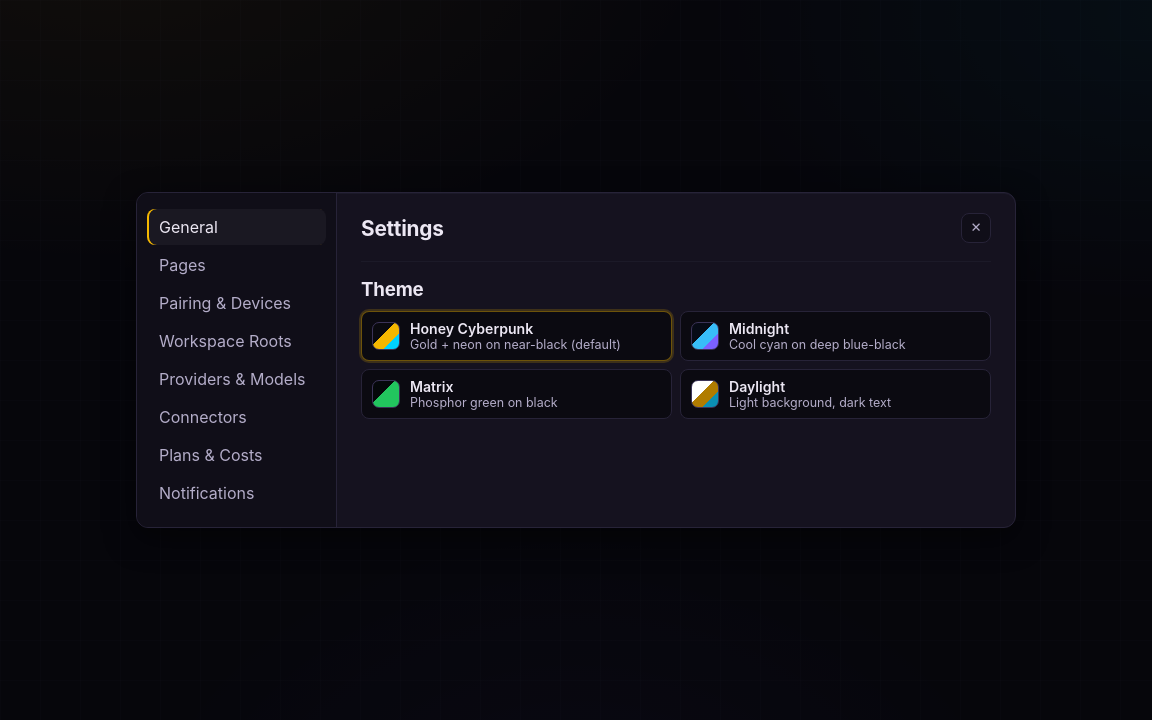
Scenario: SettingsModal › switches to the Pages section and lists page toggles
The image size is (1152, 720).
Step 1. Click the button "Pages" → (236, 265), box left=147, top=247, right=326, bottom=283
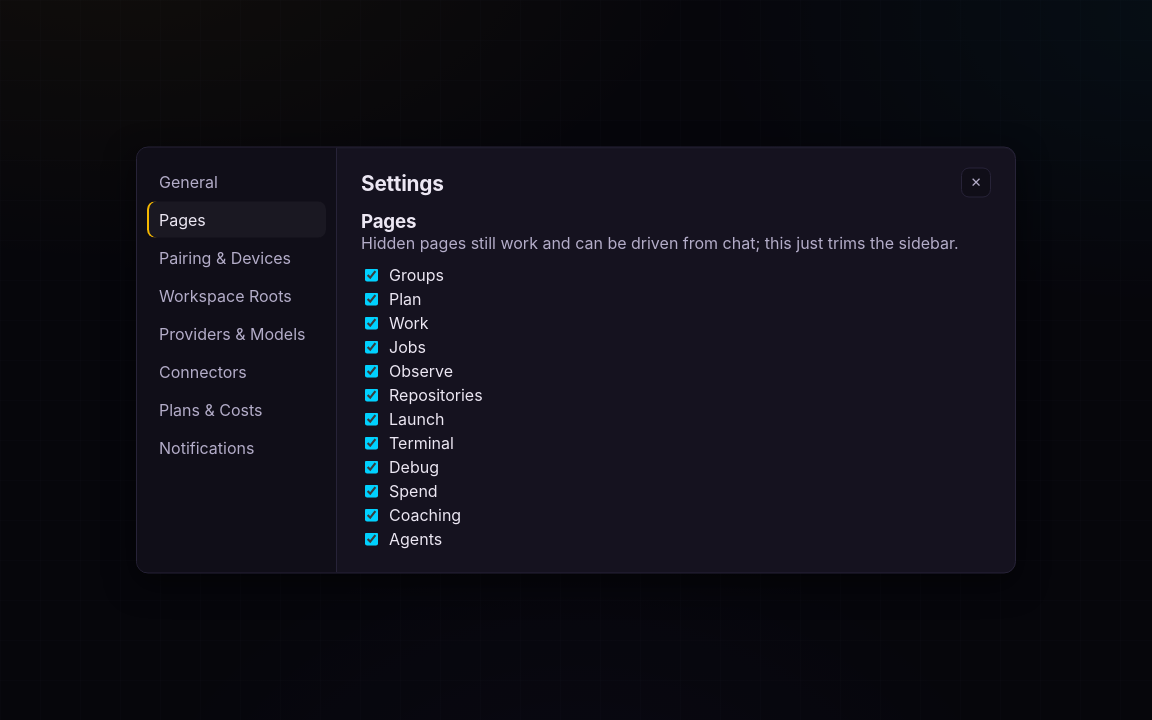
expect the checkbox labelled "Repositories" is shown: met, box left=365, top=388, right=378, bottom=401
expect the checkbox labelled "Groups" is shown: met, box left=365, top=268, right=378, bottom=281
